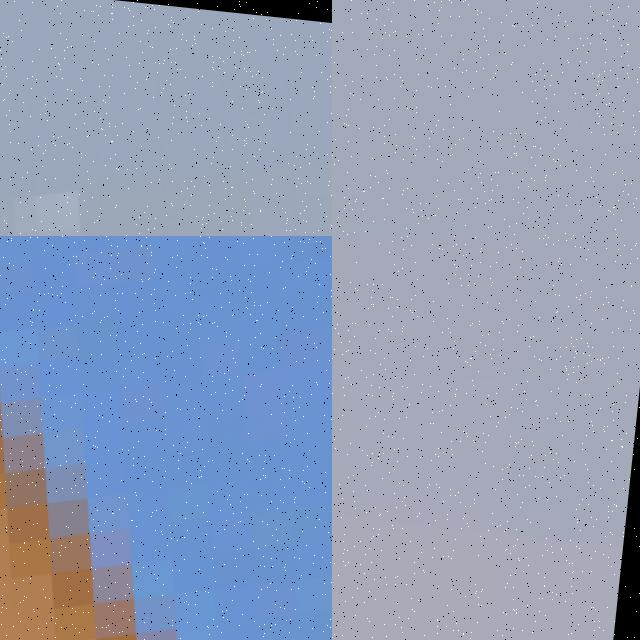0: (0, 0, 332, 236)
drone: (0, 236, 332, 640)
